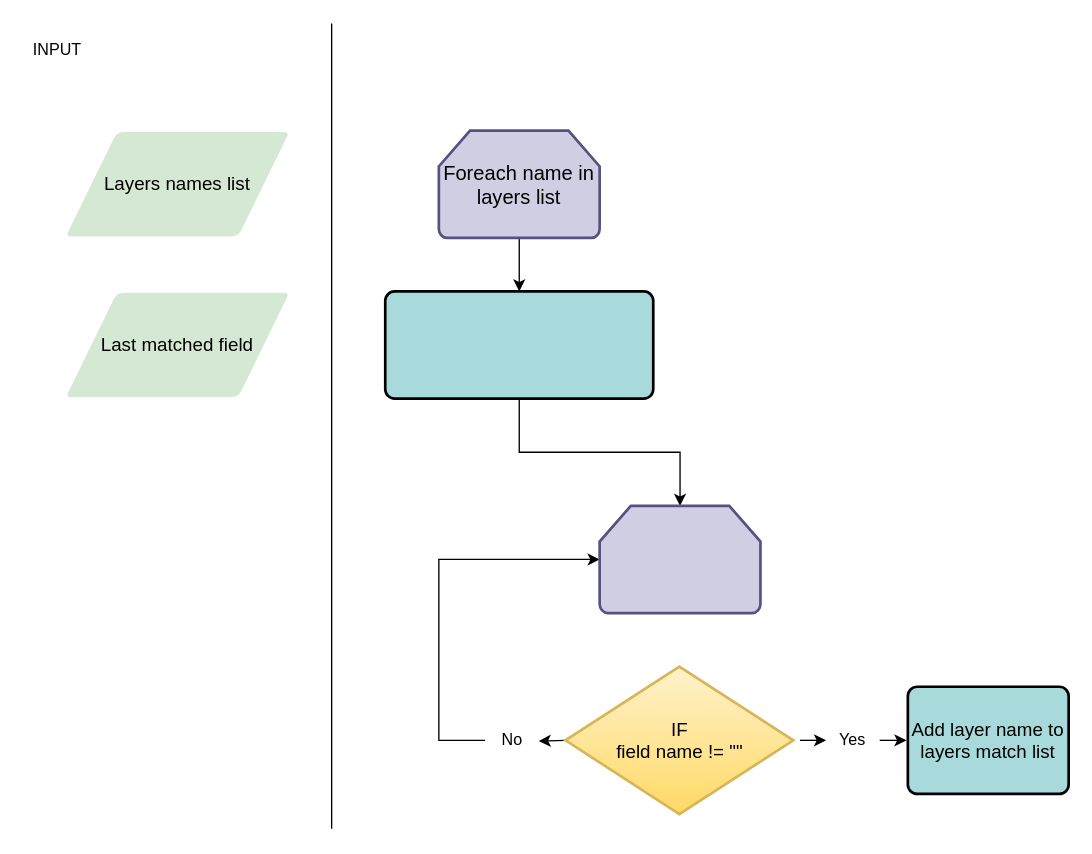
Image size: 1092x854. Some labels were removed from this diagram. Each missing label, with the centre of its shape:
Foreach field in layer fields list: point 679,559
Get list of fields of the layer name from Last matched field: point 518,344
